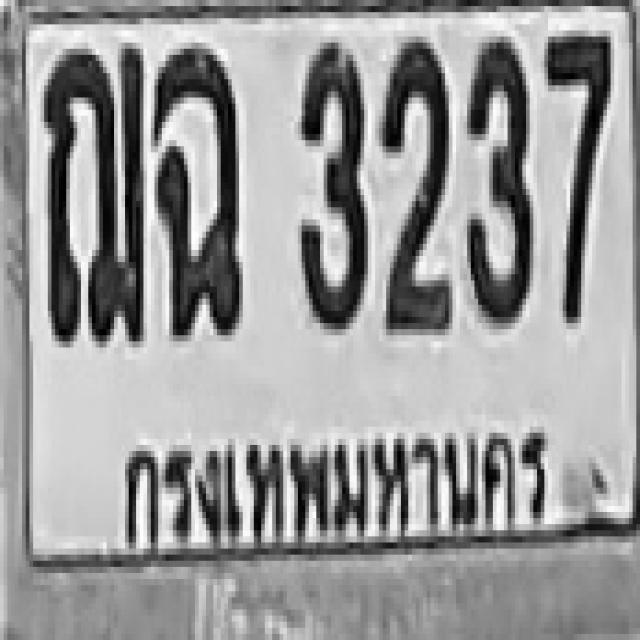18ChorChing: (151, 43, 239, 335)
2: (379, 37, 449, 329)
21ChorChoe: (40, 43, 144, 341)
3: (296, 37, 366, 323), (464, 31, 530, 323)
7: (544, 27, 610, 320)
Bangkok: (118, 400, 554, 549)
